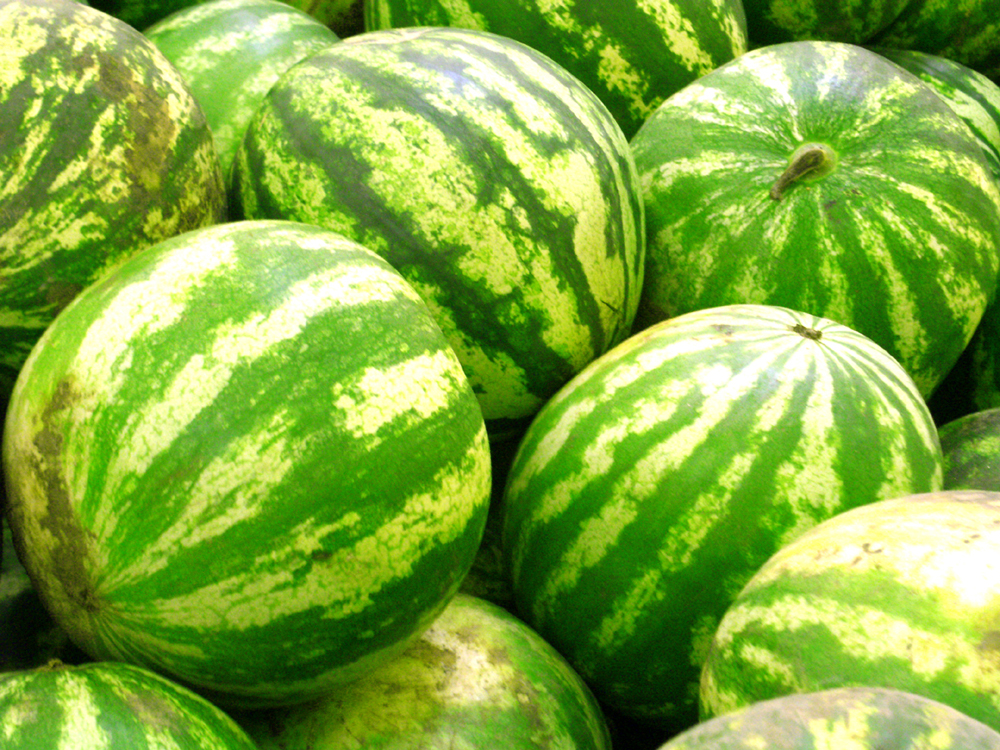watermelon: (31, 237, 478, 689), (520, 300, 947, 704), (228, 21, 629, 403), (647, 31, 1000, 365)
